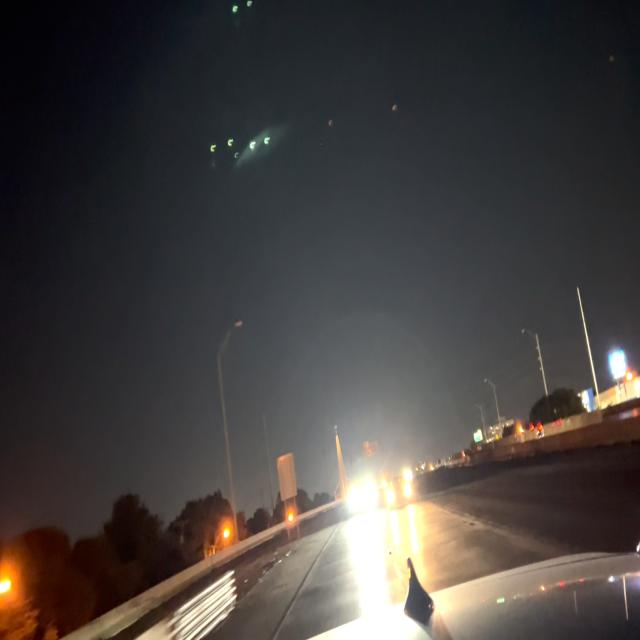back-of-sign: (277, 455, 296, 503)
